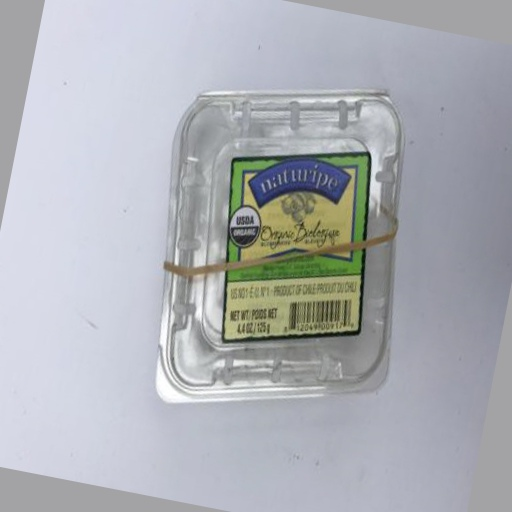Plastic_4: (156, 88, 399, 399)
